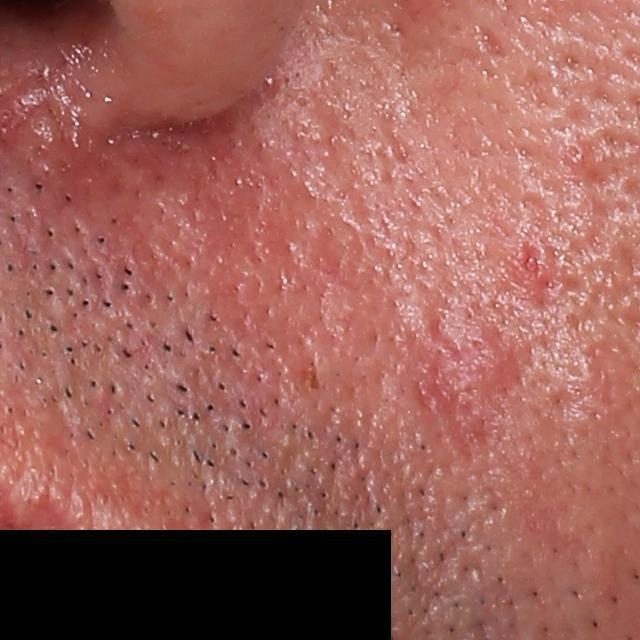atrophic_scar: (498, 67, 567, 125), (472, 18, 511, 68)
papule: (464, 343, 524, 396)
